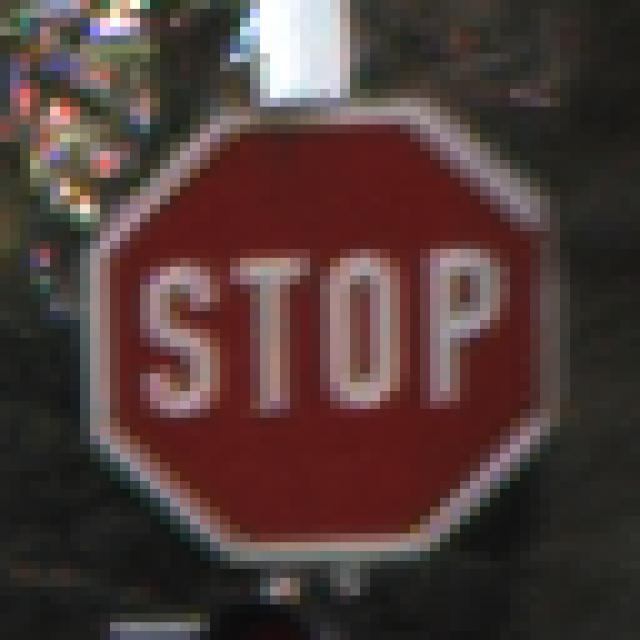STOP: (51, 54, 591, 588)
